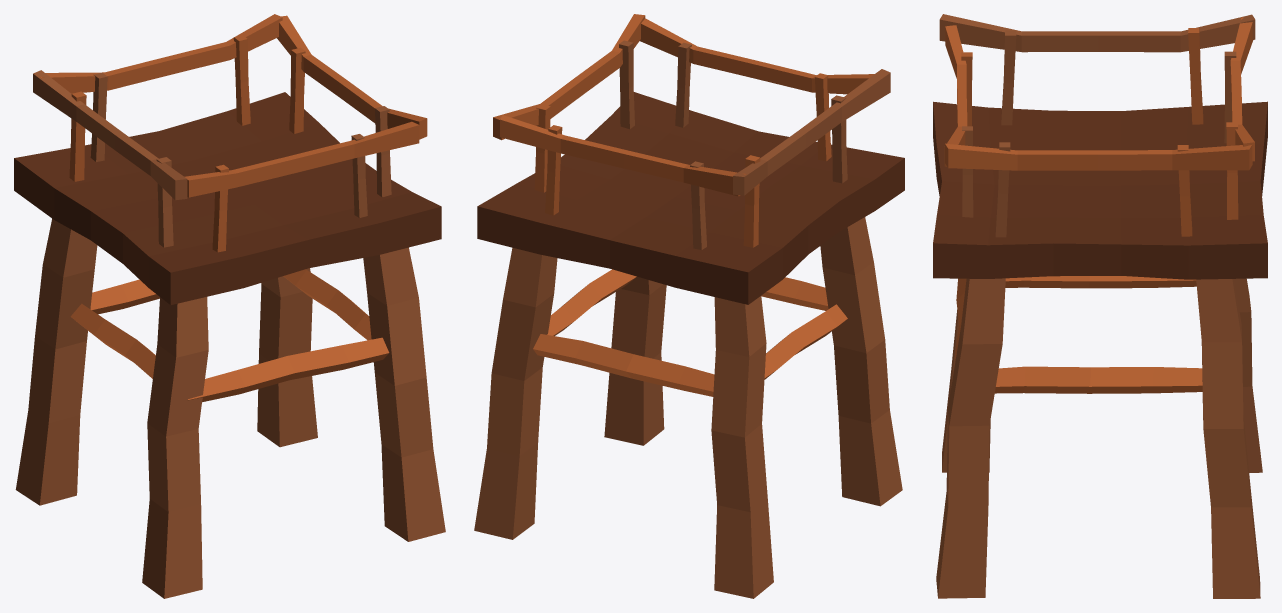
Rendered from Archer Platform.fbx.
3 views of the same model, side by side, from view 1: azimuth 30°, elevation 25°; view 2: azimuth 150°, elevation 25°; view 3: azimuth 270°, elevation 25° (orthographic). The views are drawn at different scales.
Visible parts, largest first — view 1: tower001; view 2: tower001; view 3: tower001.
Part boxes in pixels (x1=…): tower001: x1=14, y1=14, x2=445, y2=598; tower001: x1=474, y1=14, x2=904, y2=598; tower001: x1=933, y1=14, x2=1267, y2=598.
Size of the model in its own units: 1172 by 1661 by 1133.
